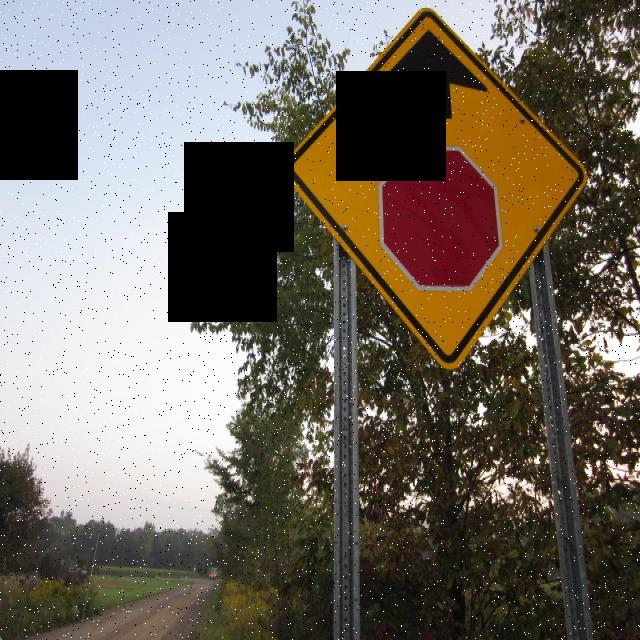stop: (376, 145, 504, 290)
warning: (280, 8, 586, 368)
